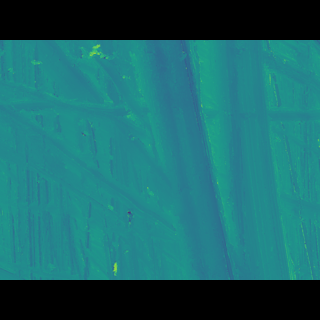Loch: (17, 70, 293, 248)
